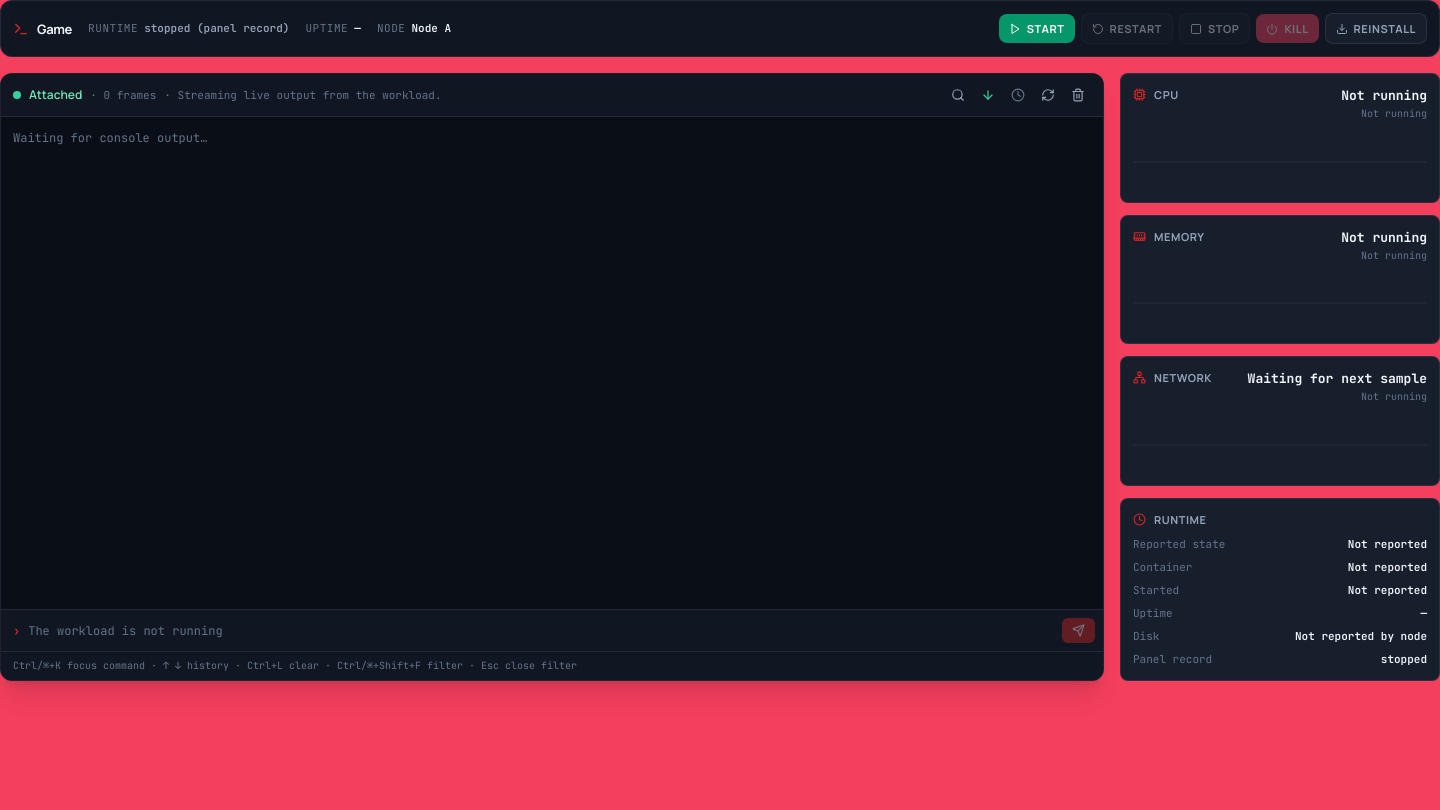
Test: console-view power operation progress › says progress is untrackable when the API returns no operation id
Click the button with aria-label "Start workload" at {"x": 1037, "y": 28}, box [999,14,1075,43]
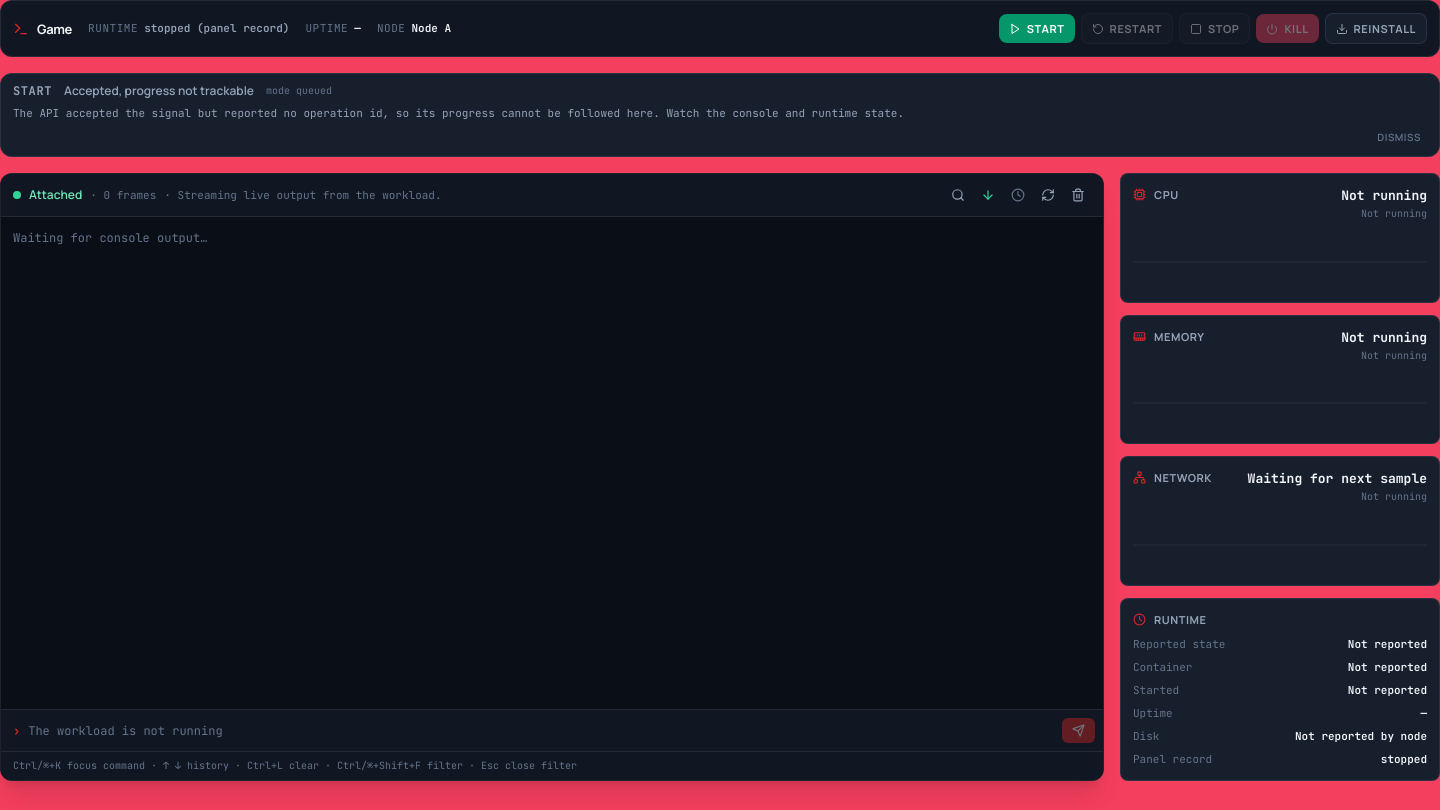
Expected: the text "Accepted, progress not trackable" is shown, [64,82,254,100]
